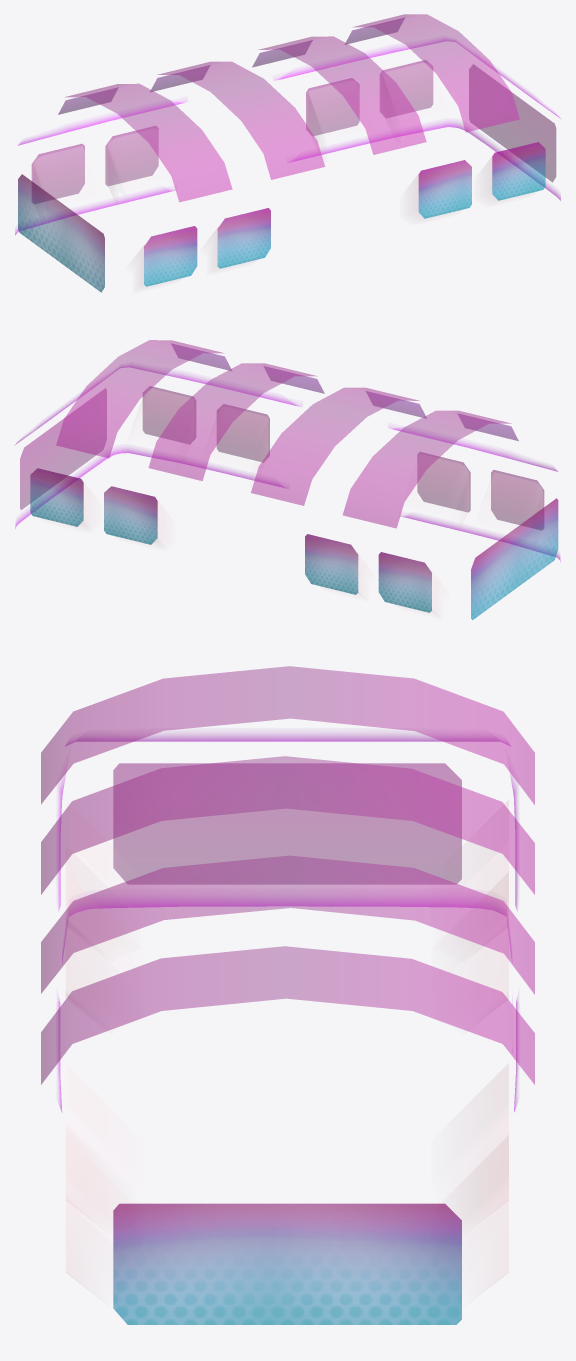
Rendered from scifi_tram_windows.glb.
The picture shows the model from 3 angles, top to bottom: view 1: azimuth 30°, elevation 25°; view 2: azimuth 150°, elevation 25°; view 3: azimuth 270°, elevation 25°; orthographic projection. The views are drawn at different scales.
Visible parts, largest first — view 1: scifi_tram_windows; view 2: scifi_tram_windows; view 3: scifi_tram_windows.
Part boxes in pixels (left/top/right/bottom): scifi_tram_windows: left=15, top=14, right=560, bottom=292; scifi_tram_windows: left=14, top=340, right=560, bottom=619; scifi_tram_windows: left=41, top=666, right=534, bottom=1324.
Bounding box in the file's own units: 14.25 × 4.87 × 6.72.
1 material, 1 textured.
